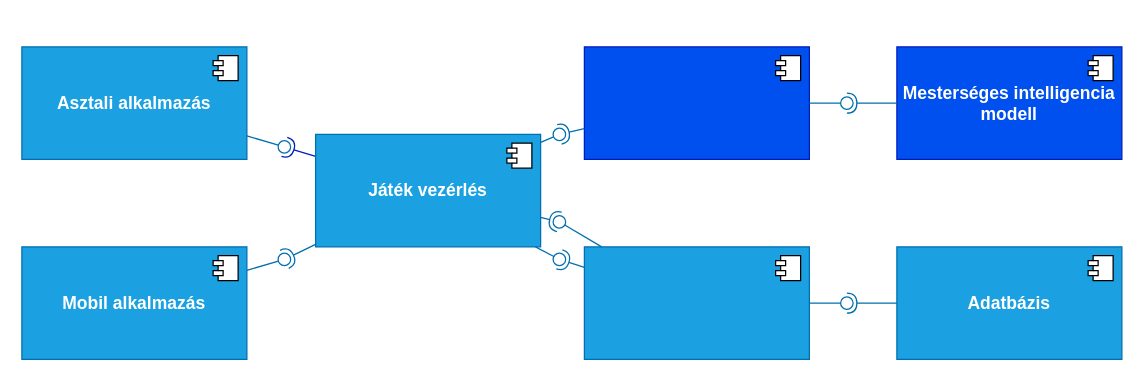
This 1144x381 diagram has some shape labels left out. Here are the shapes that lost their labels. From the top down, the centre of each, then its label:
point 696,102: Játék logika
point 696,302: Webszerver
